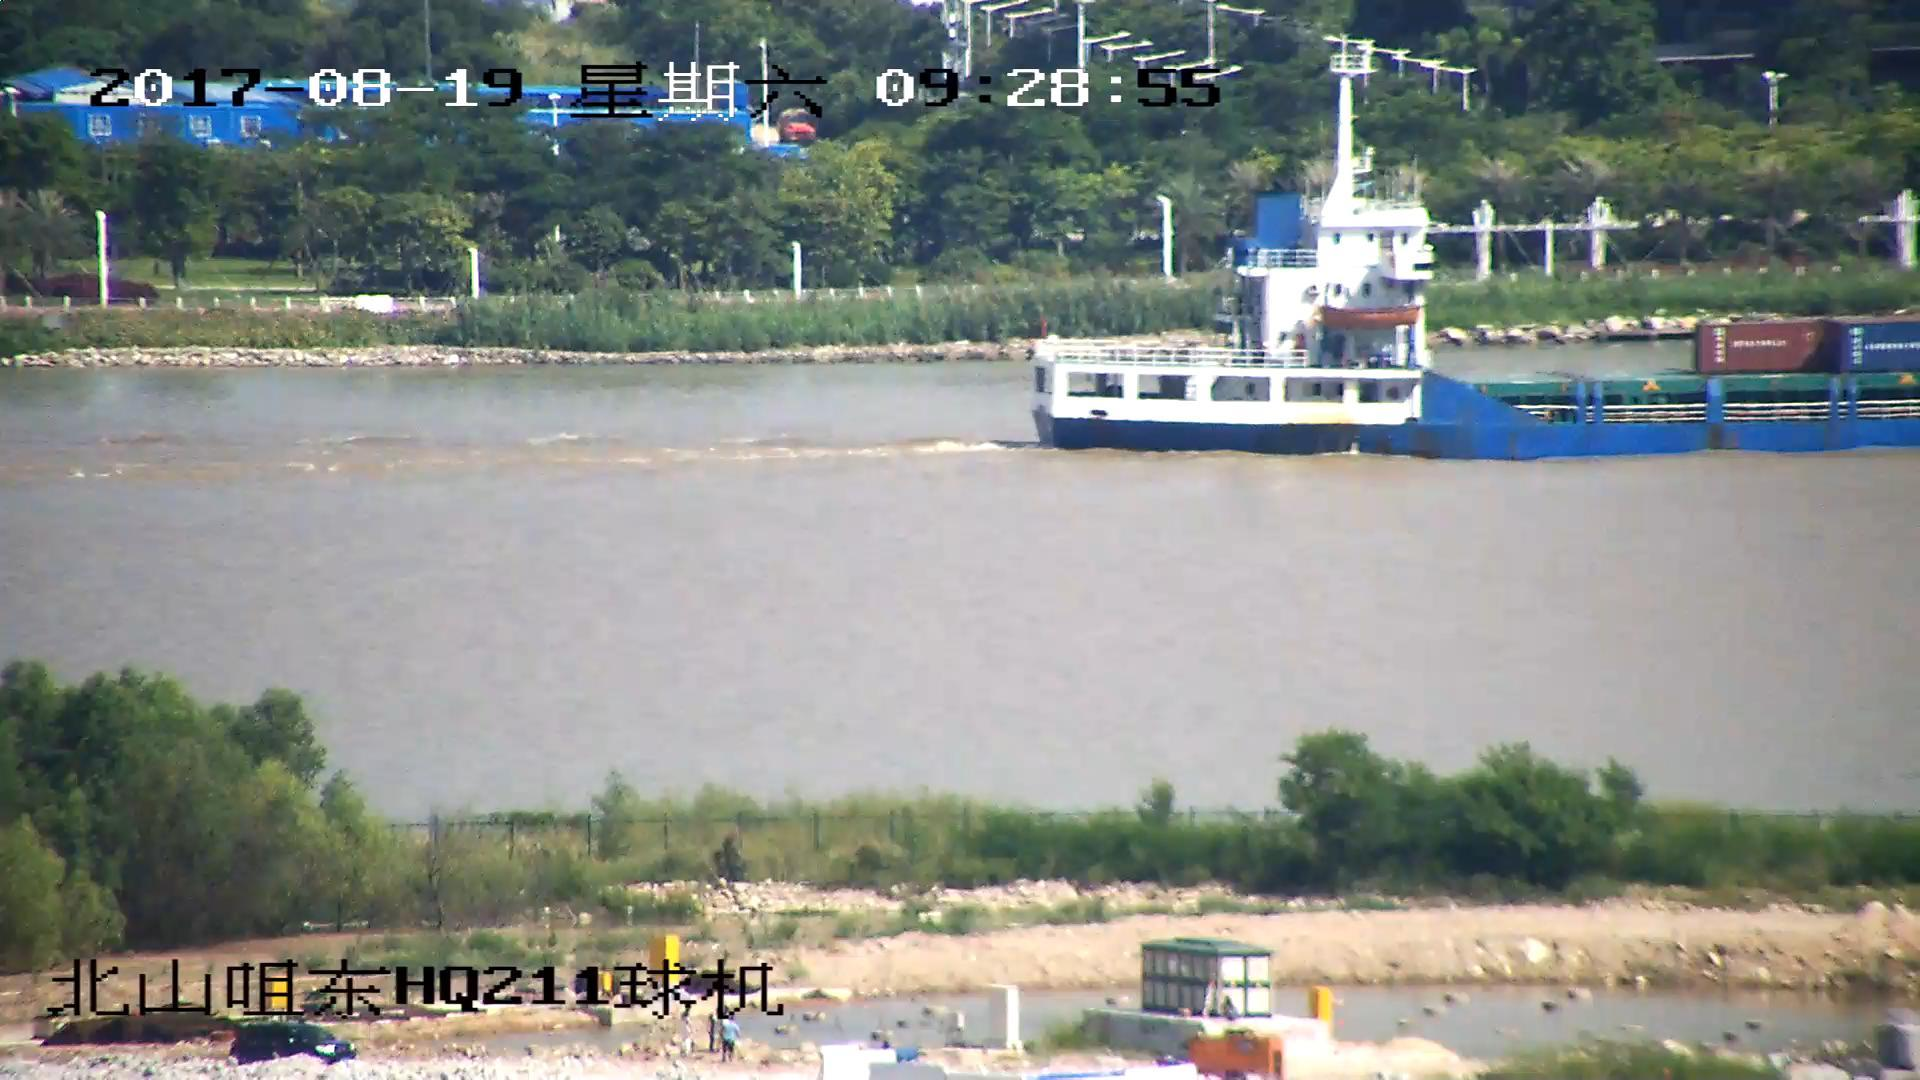Ship: (1027, 108, 1920, 462)
